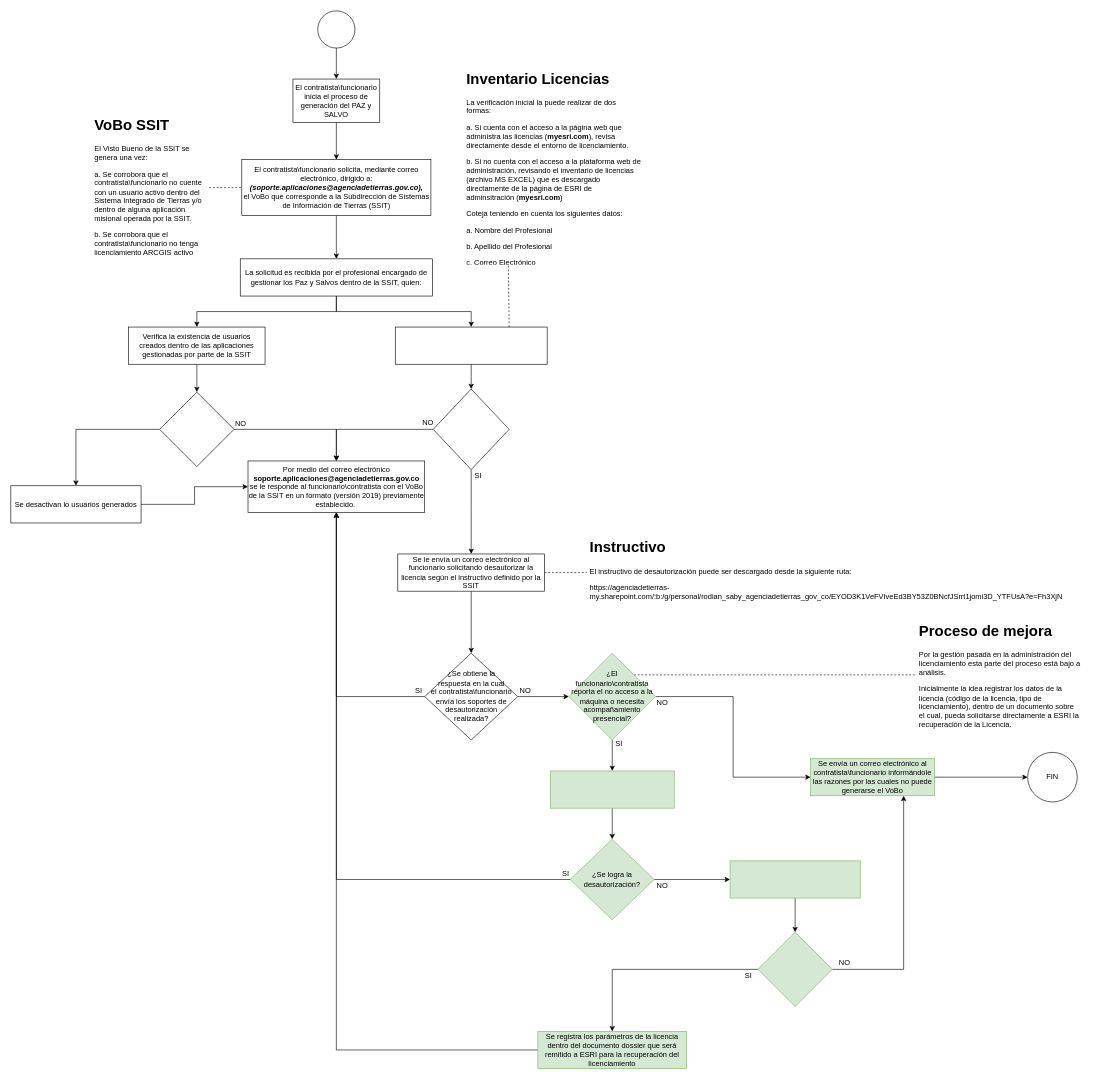
Image size: 1094x1079. Some labels were removed from this diagram. The shapes that lost their labels are listed below. From the top down, each one's box as (x1, y1, x2, y2) in pixels, then its label:
(317, 10, 355, 48): INICIO
(395, 326, 547, 364): Verifica que el contratista\funcionario tenga una licencia activa de ARCGIS
(159, 392, 234, 467): ¿Tiene usuario creado dentro de alguna aplicación SSIT?
(433, 388, 509, 470): ¿Tiene licenciamiento ARCGIS Activo?
(550, 770, 674, 808): Se realiza el acompañamiento y soporte solicitado
(729, 860, 860, 898): Se estudia las razones por las cuales no puede ser desautorizada la licencia
(757, 932, 832, 1007): ¿Los argumentos son validos?
